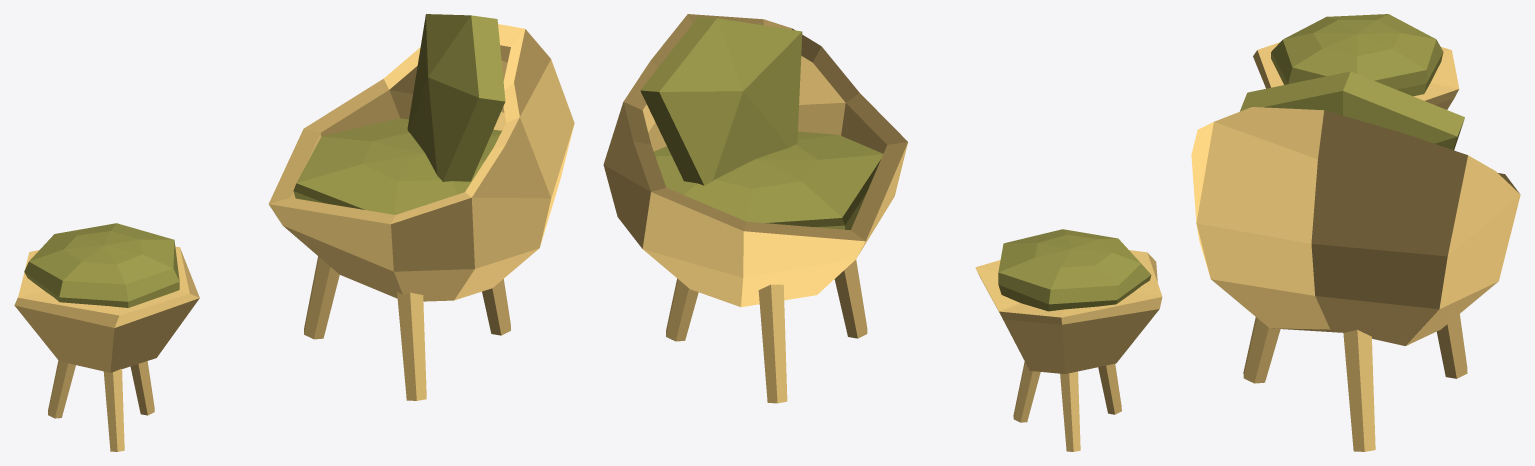
File: couchFrontJ.FBX
3 views of the same model, side by side, from view 1: azimuth 30°, elevation 25°; view 2: azimuth 150°, elevation 25°; view 3: azimuth 270°, elevation 25° (orthographic). The views are drawn at different scales.
Parts seen in each view (by area): view 1: couchFrontJ; view 2: couchFrontJ; view 3: couchFrontJ.
Part boxes in pixels (x1,y1,x2,y2): couchFrontJ: (14,14,574,451); couchFrontJ: (603,14,1162,451); couchFrontJ: (1191,14,1520,451).
Bounding box in the file's own units: 149 × 87.28 × 72.05.
